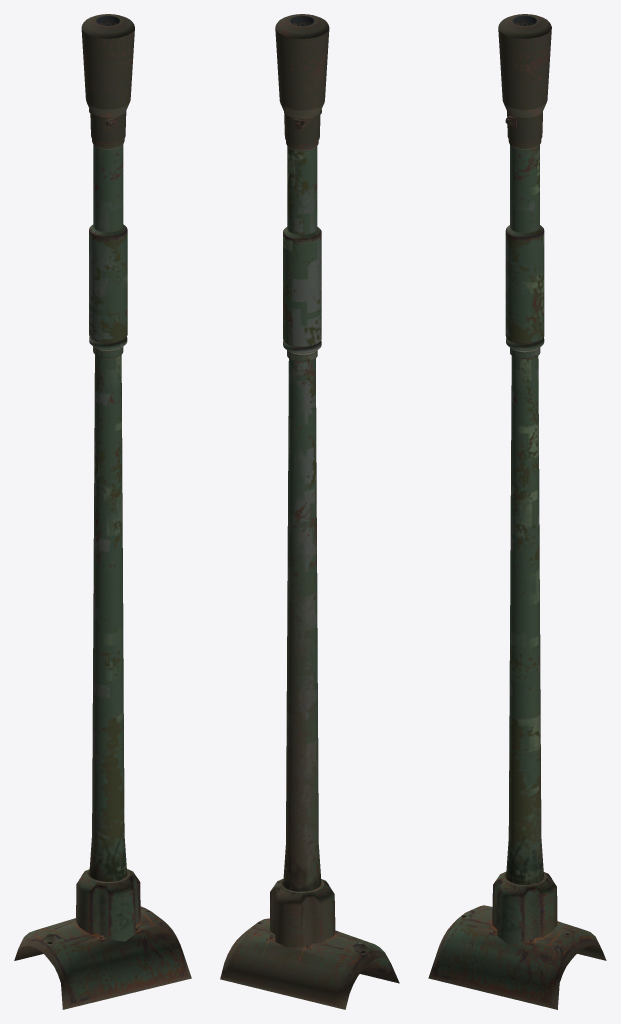
Rendered from Gun_07.glb.
3 renders of one model, left to right at view 1: azimuth 30°, elevation 25°; view 2: azimuth 150°, elevation 25°; view 3: azimuth 330°, elevation 25°, orthographic.
Visible parts, largest first — view 1: set_0_group_0; view 2: set_0_group_0; view 3: set_0_group_0.
Part boxes in pixels (box(x1,y1,x2,y2)): set_0_group_0: box(14, 14, 191, 1009); set_0_group_0: box(220, 14, 399, 1009); set_0_group_0: box(428, 14, 606, 1009).
Bounding box in the file's own units: 0.7765 × 5.48 × 0.595.
Materials: 1 (1 with a texture image).
